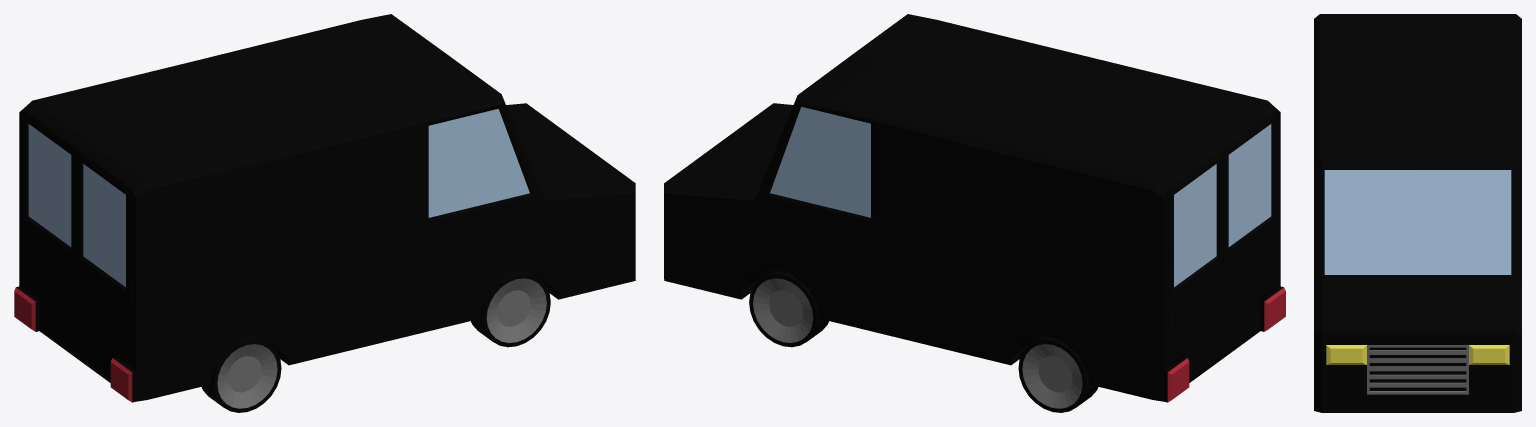
The model's file is taxman_van_1.fbx.
3 views of the same model, side by side, from view 1: azimuth 30°, elevation 25°; view 2: azimuth 150°, elevation 25°; view 3: azimuth 270°, elevation 25° (orthographic). The views are drawn at different scales.
Parts seen in each view (by area): view 1: van, van_door_left, van_door_right, rearwheels, frontwheels; view 2: van, van_door_right, van_door_left, rearwheels, frontwheels; view 3: van.
Part boxes in pixels (x1,y1,x2,y2): van: (14,14,635,402); van_door_left: (22,109,77,358); van_door_right: (77,150,132,382); rearwheels: (201,335,281,412); frontwheels: (471,269,550,347); van: (664,14,1285,402); van_door_right: (1222,109,1277,358); van_door_left: (1167,150,1222,382); rearwheels: (1018,335,1098,412); frontwheels: (749,269,828,347); van: (1314,14,1521,412).
Bounding box in the file's own units: 2770 × 1310 × 1112.
